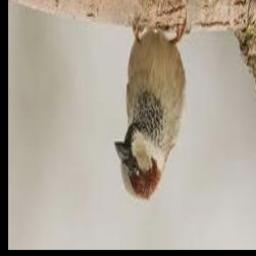Sparrow: (114, 11, 190, 200)
